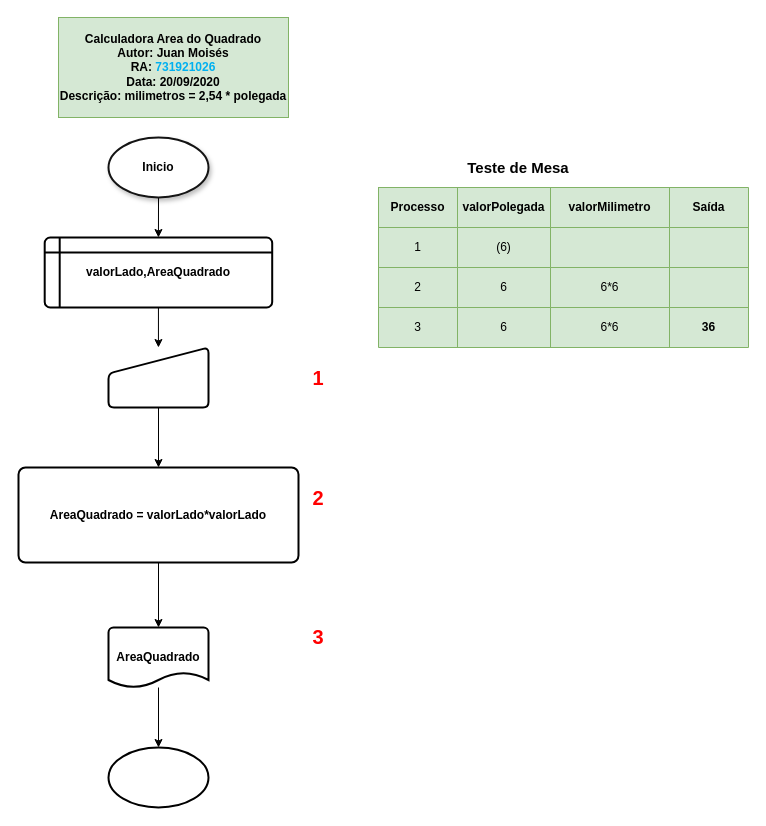
Some shapes in this 766 by 826 pixel diagram are drawn without their labels. The shapes that lost their labels are listed below. From the top down, each one's centre as x and y in pixels, then its label:
point (158, 377): valorLado
point (158, 777): Fim
